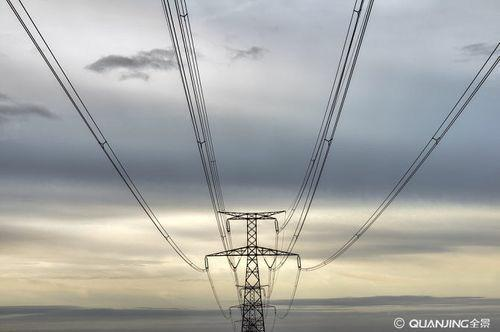power_tower: (201, 198, 302, 332)
